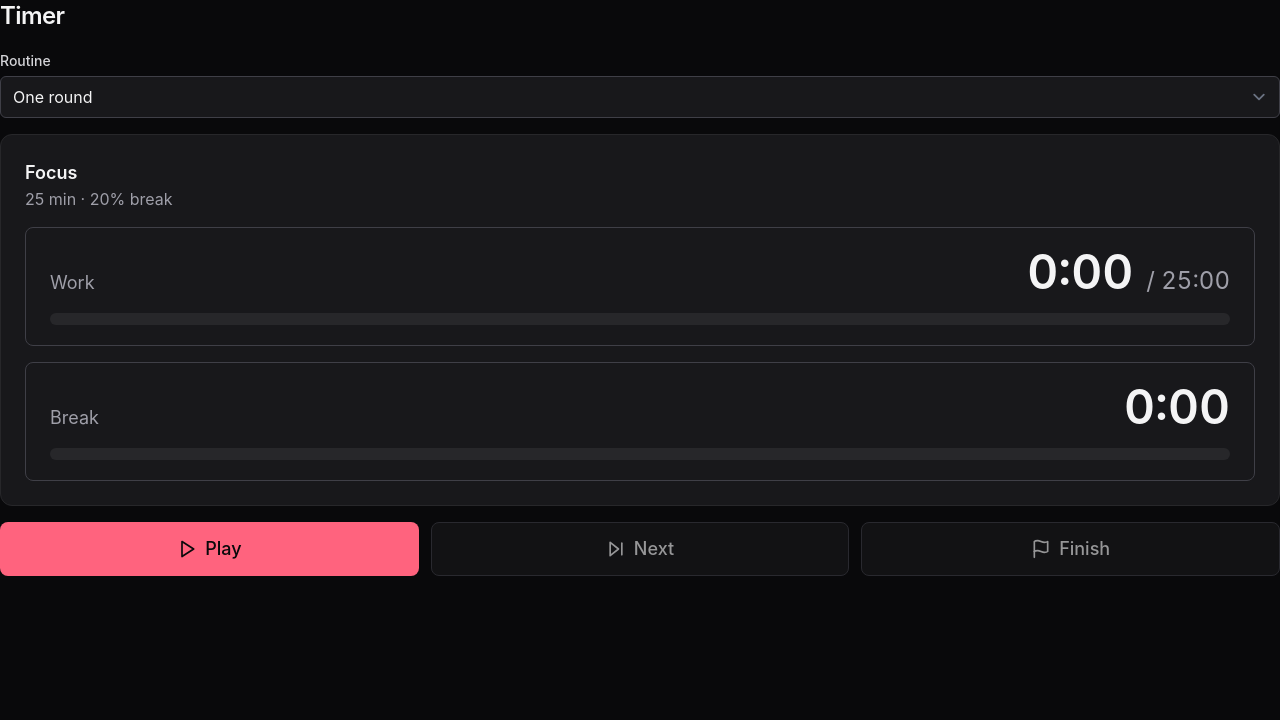
Scenario: running a routine from the Timer screen › shows the run summary once a finite routine's last work period ends
Click the button "Play" at coordinates (209, 549), box left=0, top=522, right=419, bottom=576
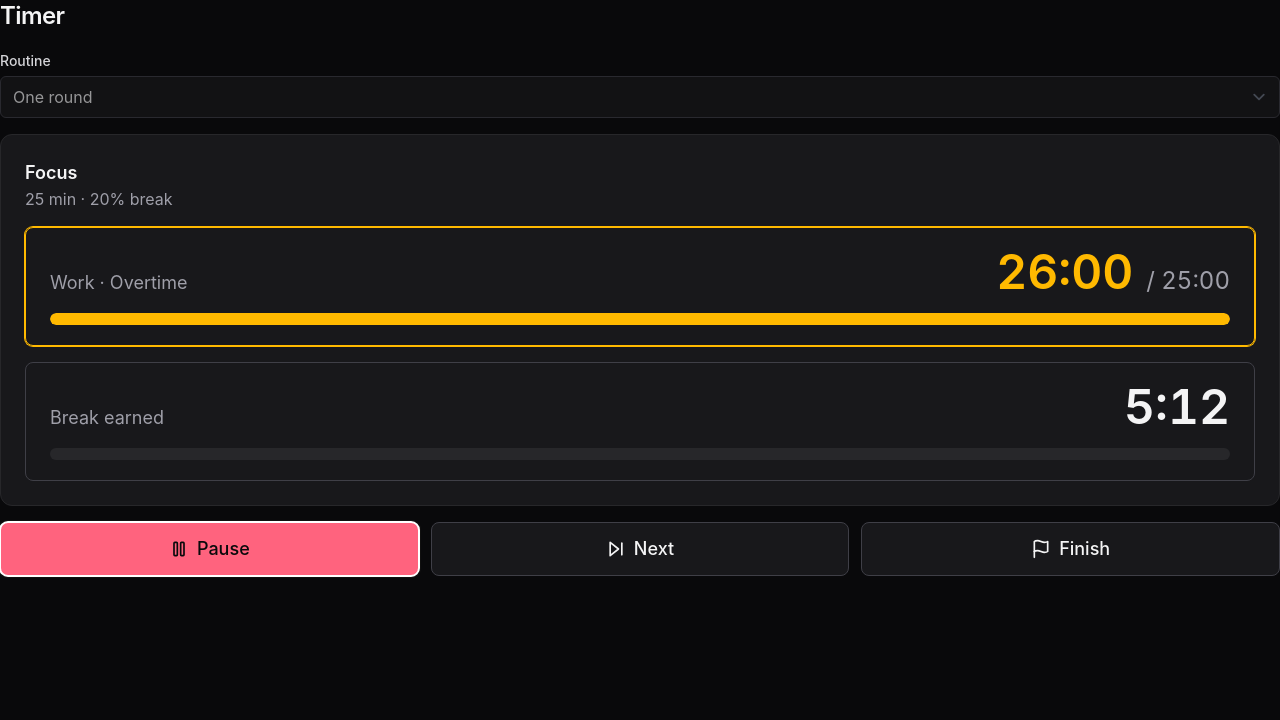
Click the button "Next" at coordinates (640, 549), box left=431, top=522, right=849, bottom=576
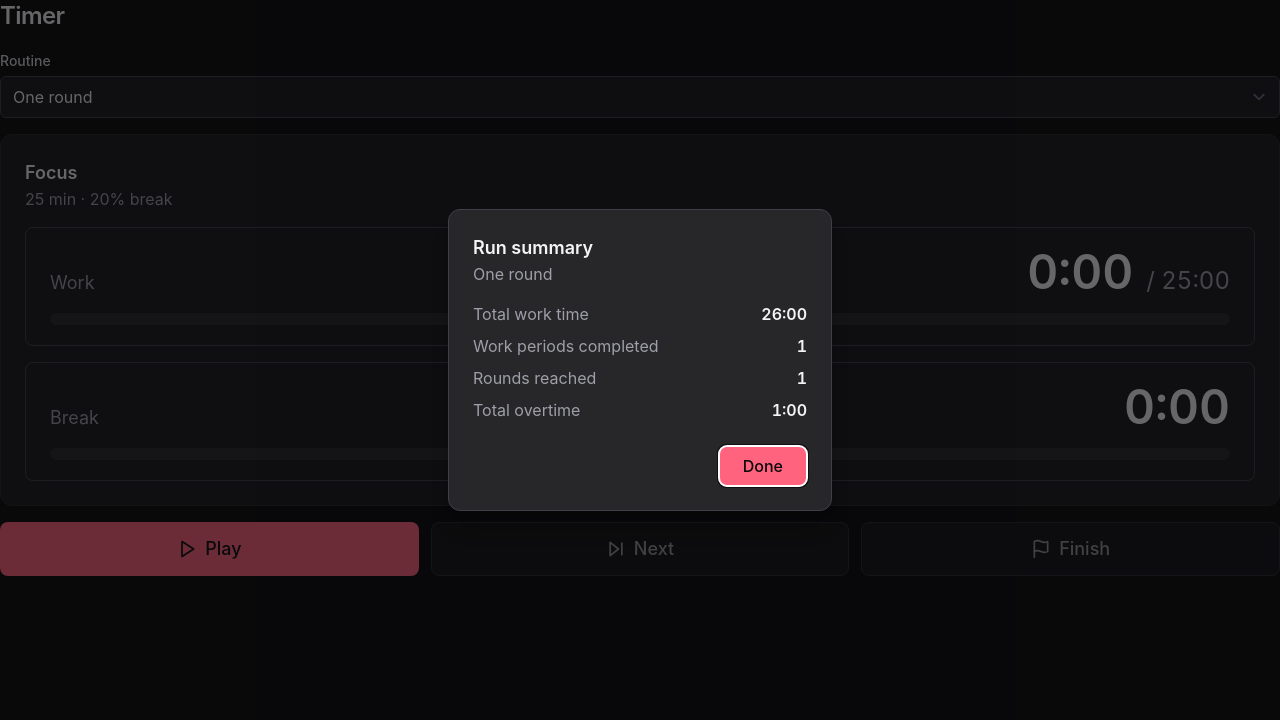
Expected: the dialog "Run summary" is shown, left=448, top=209, right=832, bottom=511
